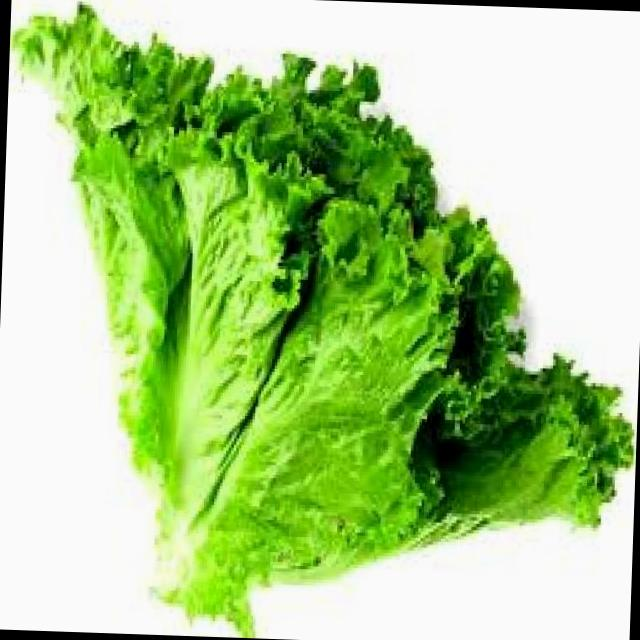Lettuce-Ready-to-Harvest: (13, 6, 631, 636)
